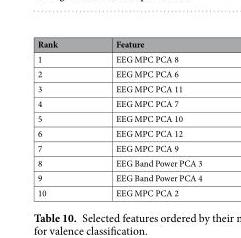table: (36, 37, 201, 198)
table column: (86, 37, 201, 198), (36, 37, 86, 198)
table column header: (36, 37, 201, 51)
table row: (36, 51, 201, 66), (36, 80, 201, 95), (36, 95, 201, 110), (36, 110, 201, 125), (36, 125, 201, 140), (36, 140, 201, 155), (36, 155, 201, 170), (36, 37, 201, 51), (36, 66, 201, 80), (36, 170, 201, 184), (36, 184, 201, 198)
